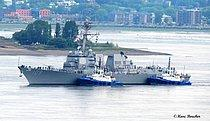MIL_Ship: (15, 25, 177, 85)
